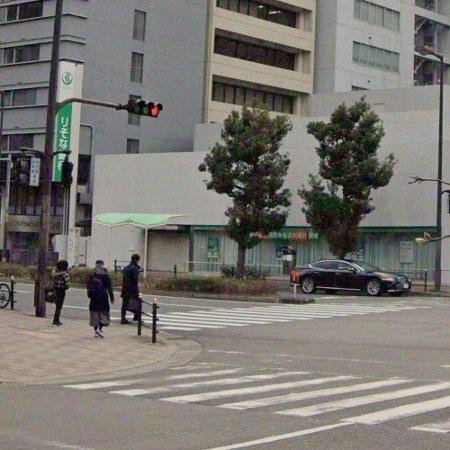crosswalks: (158, 303, 427, 332)
